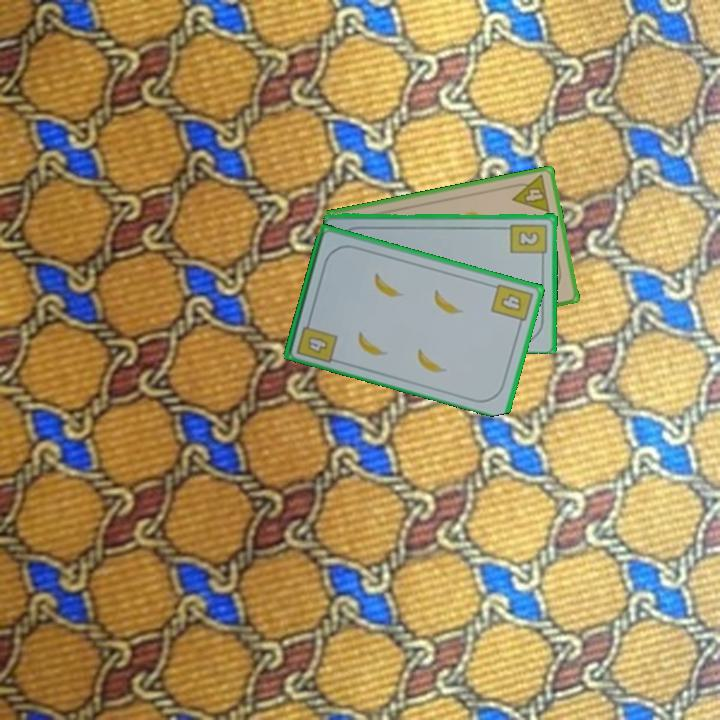2b: (508, 220, 550, 262)
4b: (487, 280, 536, 330), (293, 314, 340, 365)
4p: (507, 171, 553, 216)
